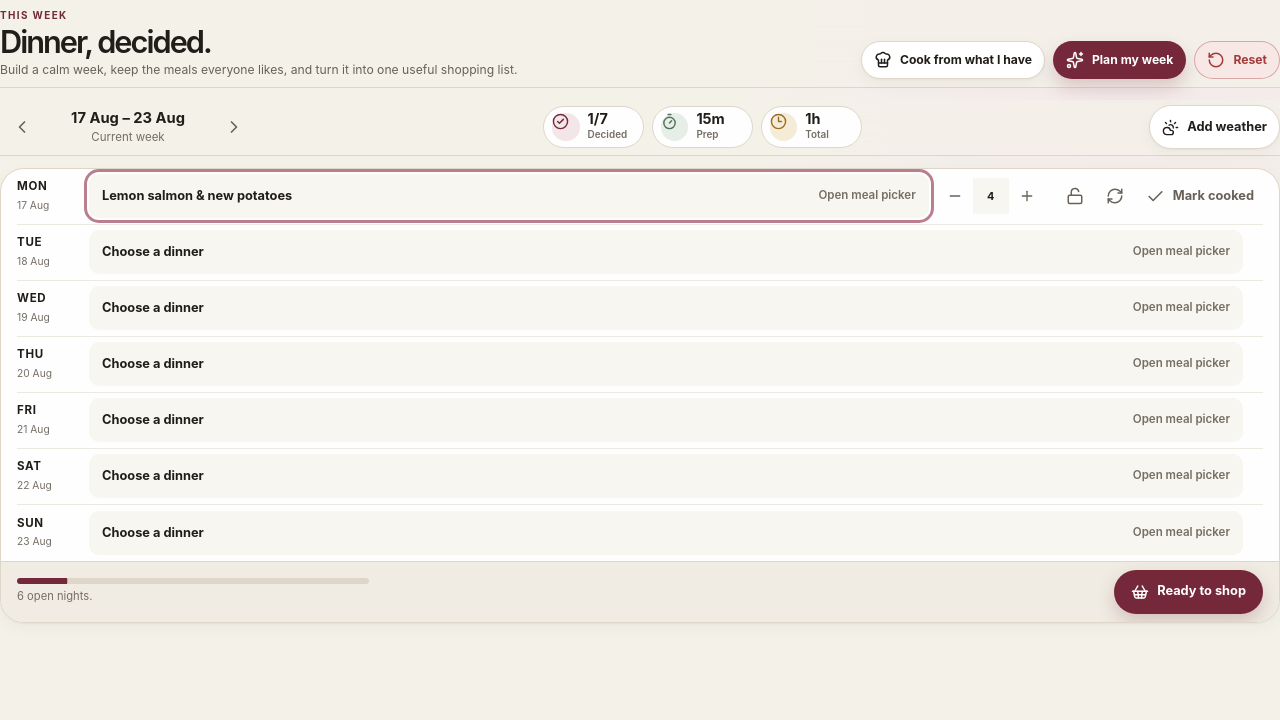
Scenario: PlanPage › explicitly replaces a chosen meal with an unresolved cuisine preference
Click the button "Lemon salmon & new potatoes Open meal picker" at (197, 196), box [89,174,929,218]
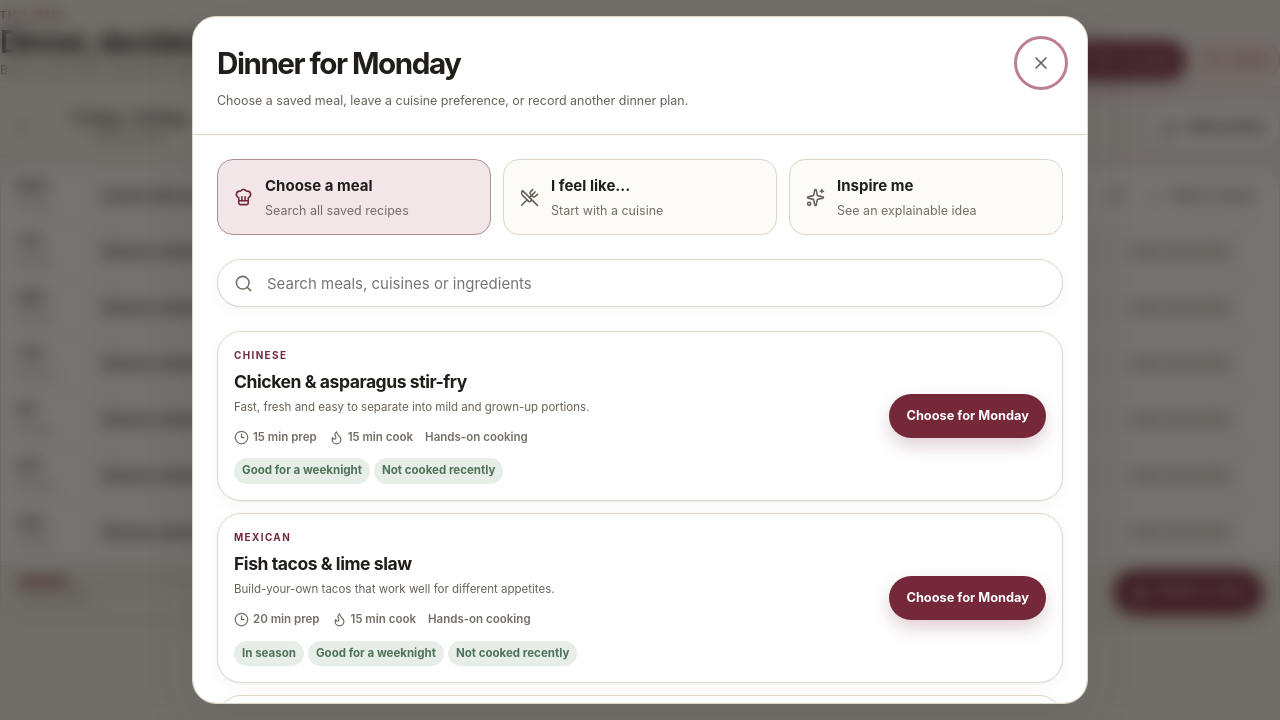
Click the button "I feel like… Start with a cuisine" at (591, 185), box [503,159,777,235]
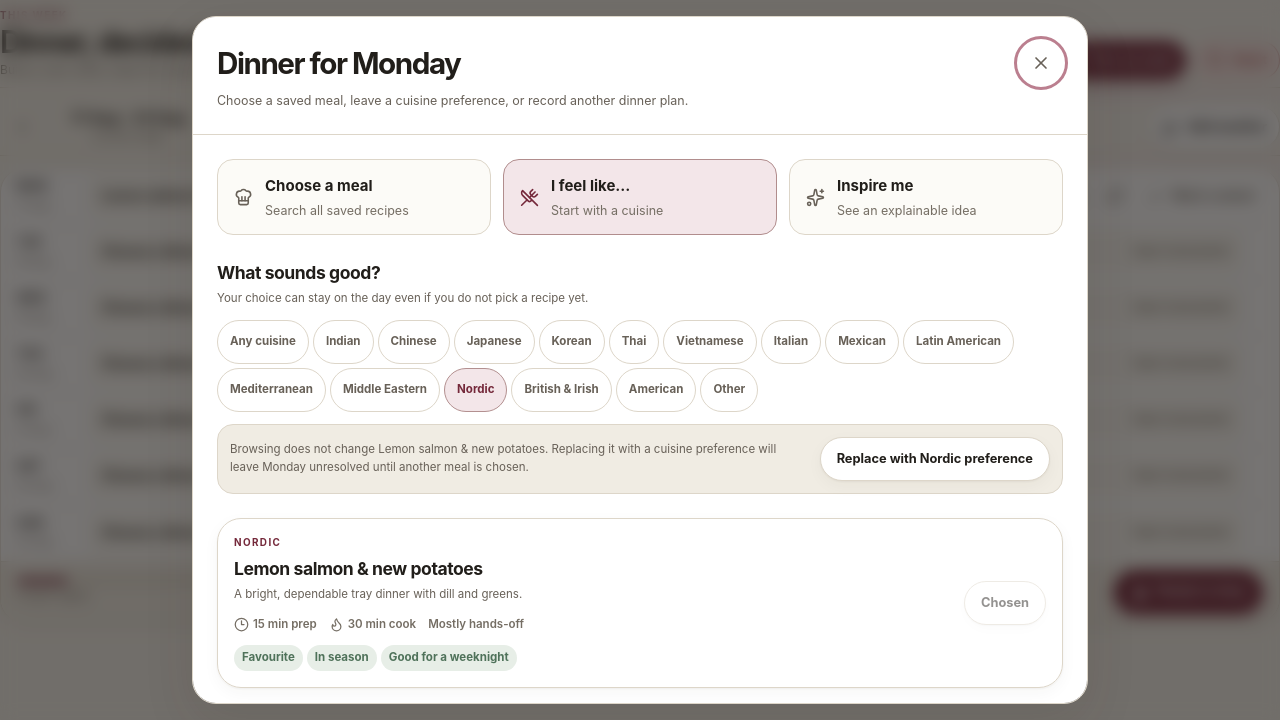
Click the button "Thai" at (634, 342), box [609,320,659,364]
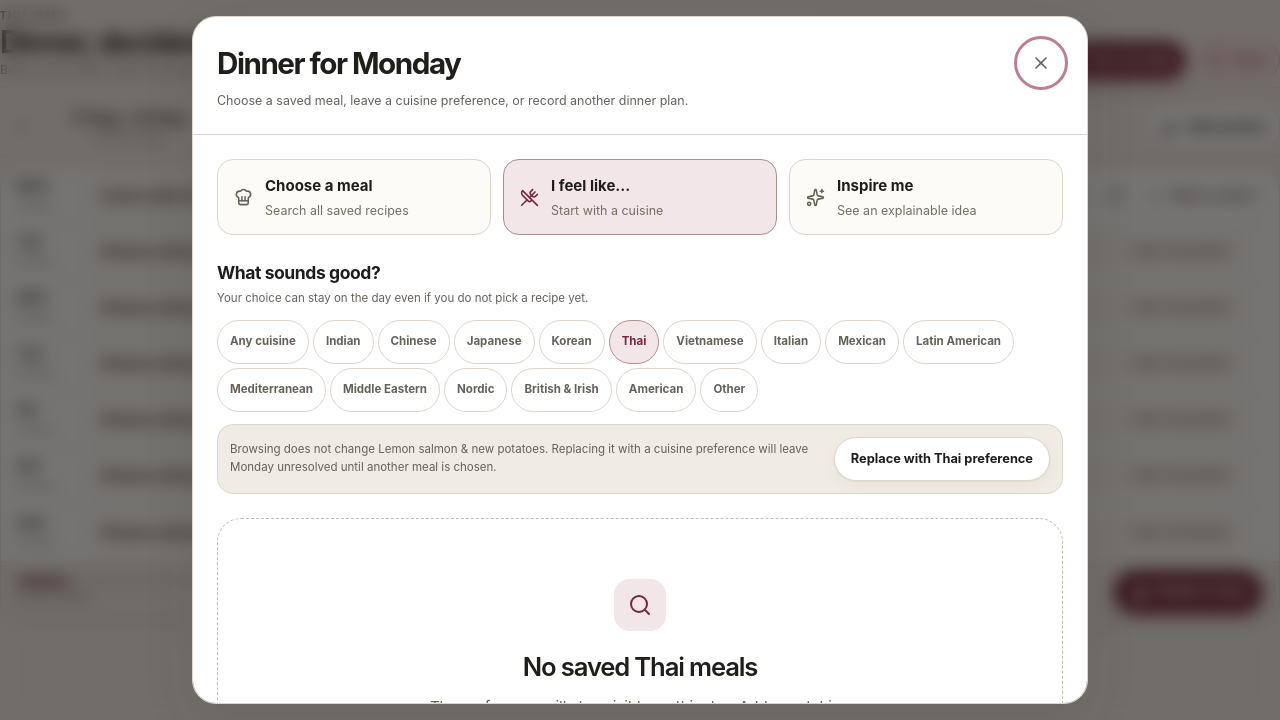
Click the button "Replace with Thai preference" at (942, 459), box [834,437,1050,481]
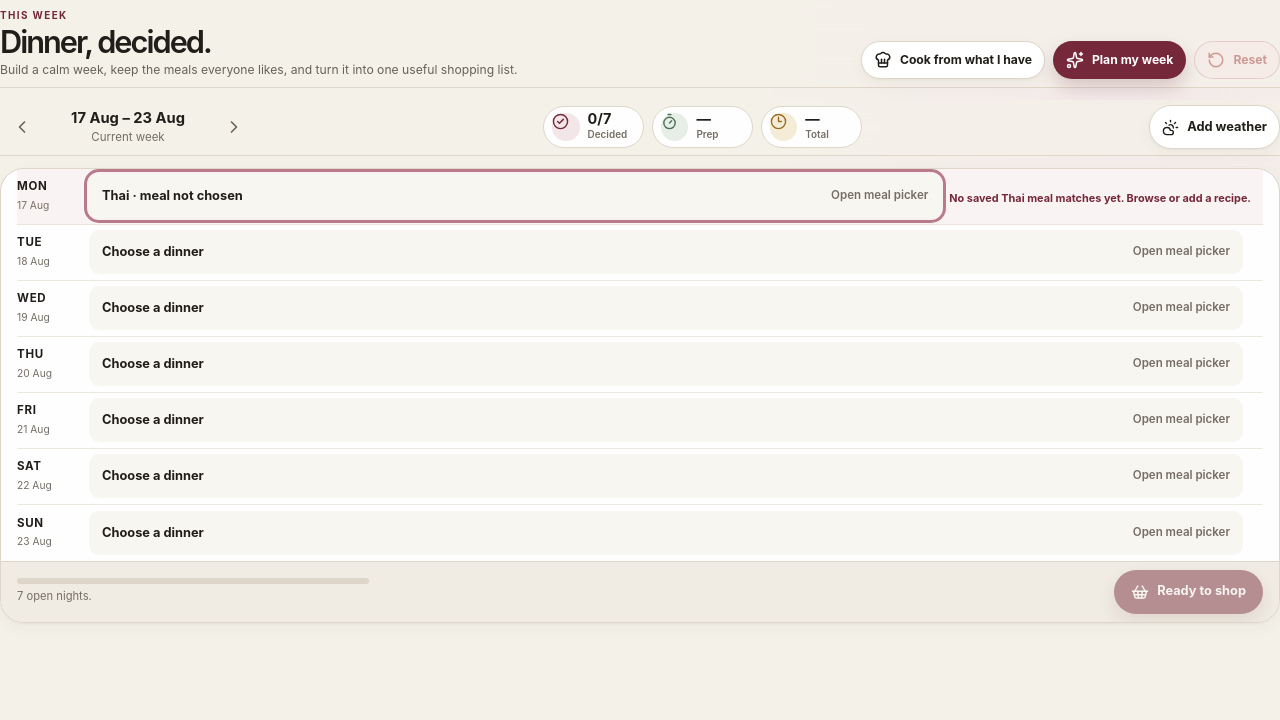
Expected: the text "Thai · meal not chosen" is shown, [102,186,243,206]
